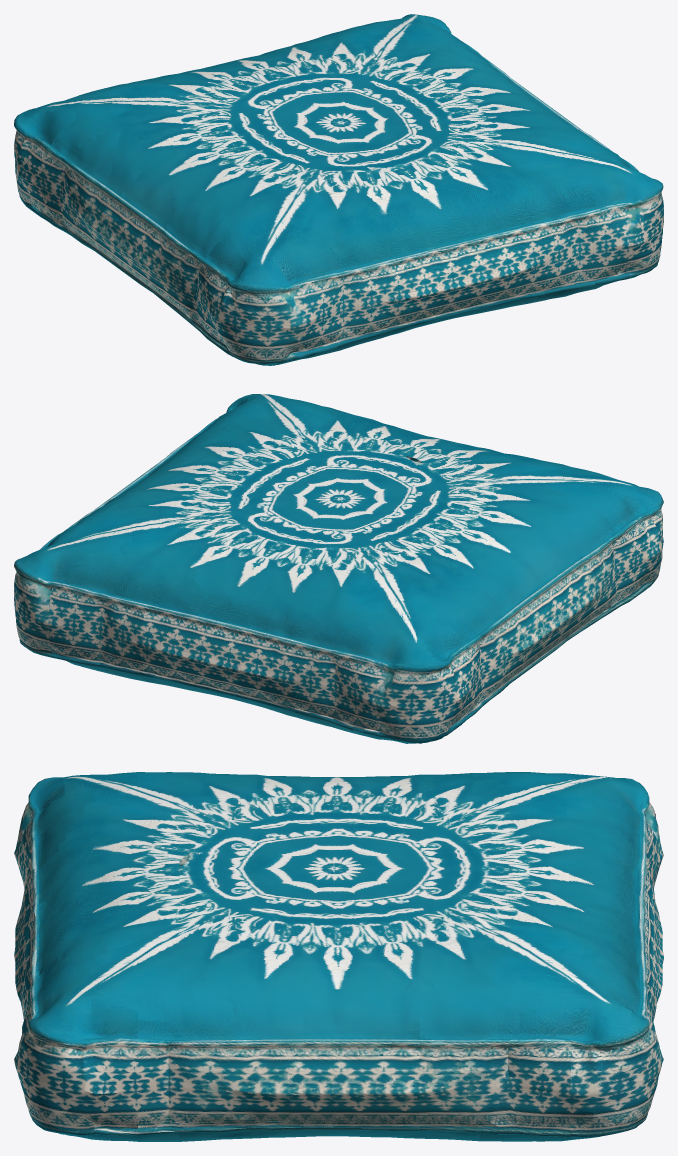
Rendered from s1_quality_pillow_blue.glb.
3 renders of one model, top to bottom at view 1: azimuth 30°, elevation 25°; view 2: azimuth 150°, elevation 25°; view 3: azimuth 270°, elevation 25°, orthographic. The views are drawn at different scales.
Size of the model in its own units: 1.91 by 0.5675 by 1.91.
Materials: 1 (1 with a texture image).
